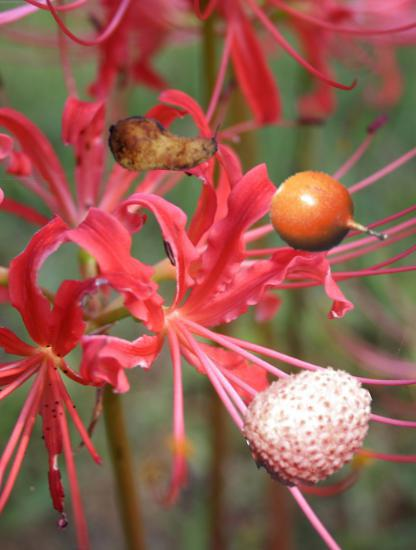Granadilla: (266, 162, 387, 283)
Lychee: (246, 360, 378, 492)
Pear: (107, 88, 219, 200)
